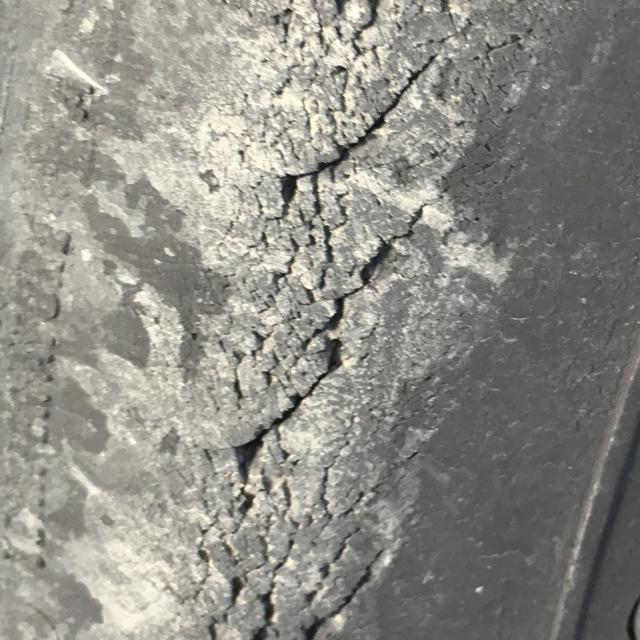Cracks: (150, 0, 555, 640)
Non-defective: (588, 4, 640, 640)
